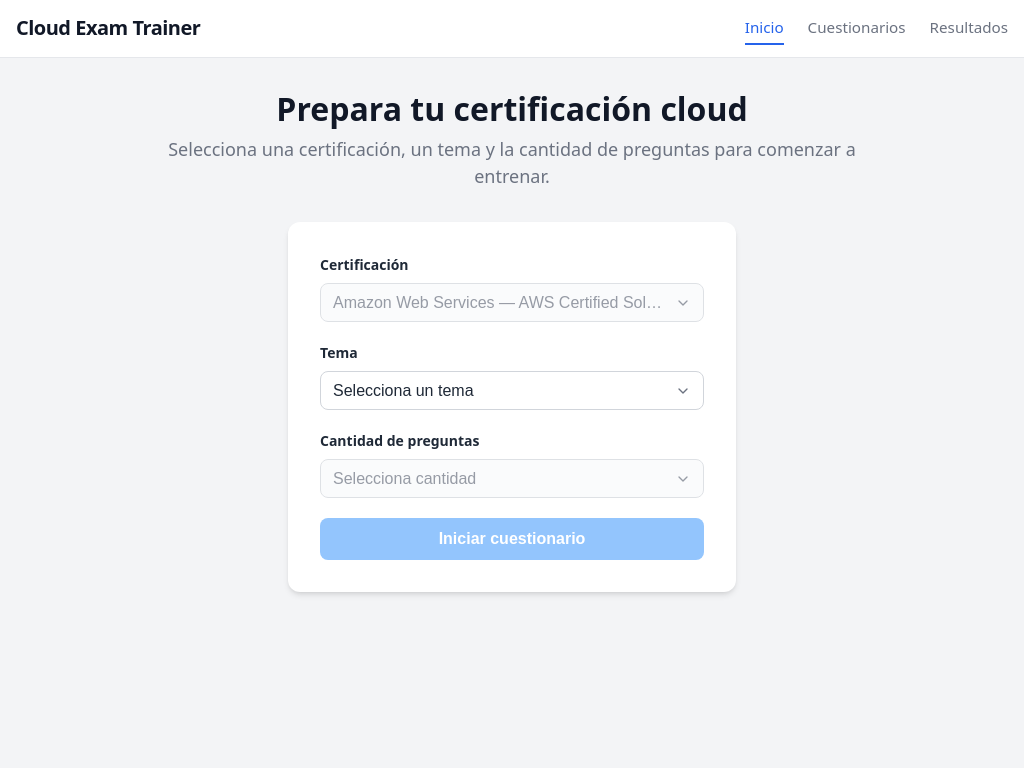
Test: Quiz setup › shows an error when no question count is selected
The image size is (1024, 768).
Select "Security" in the dropdown labelled "Tema" at point(512, 391), box [320,371,704,410]
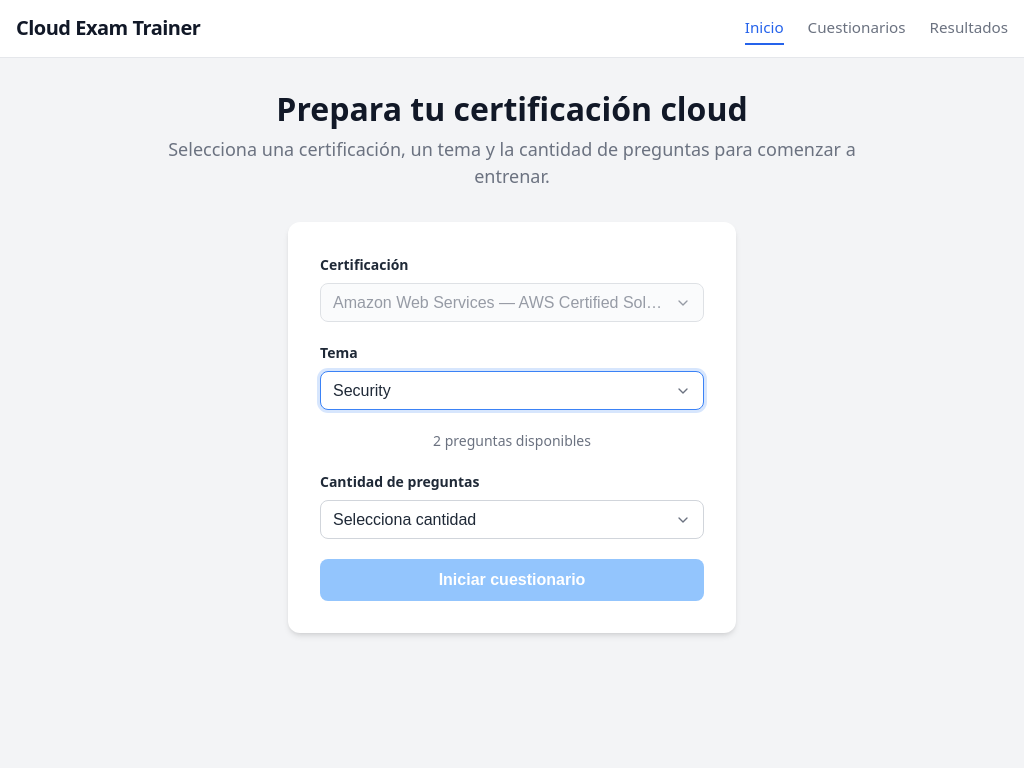
Submit the form named "Configurar cuestionario", box [288,222,736,633]
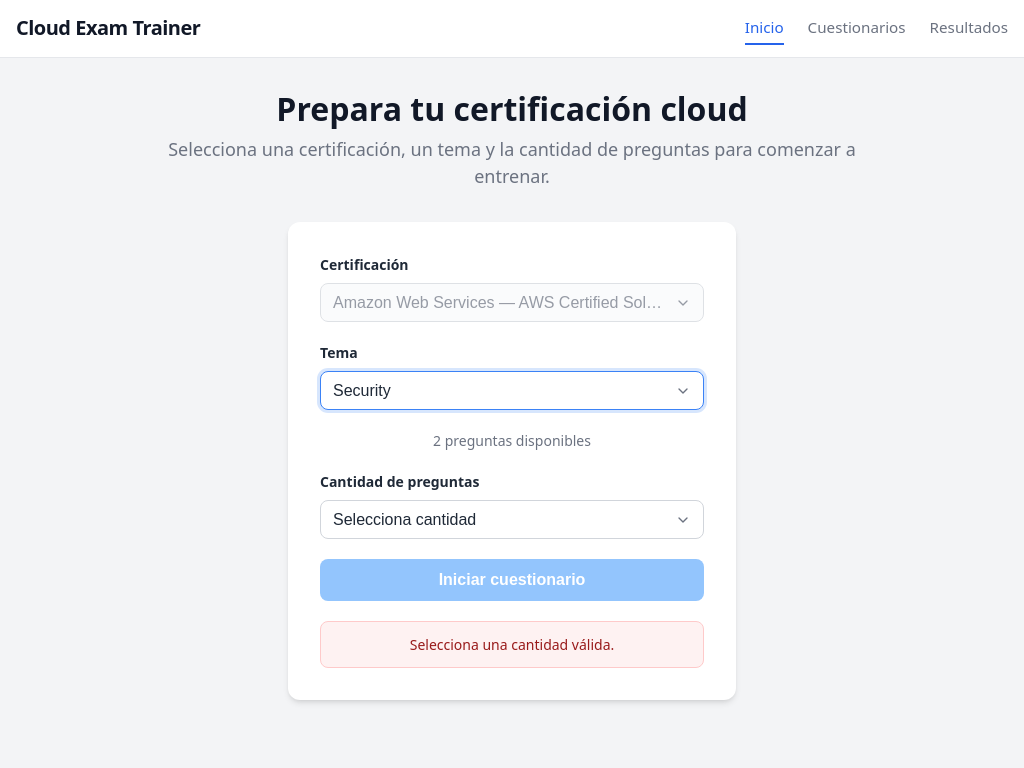
Now the message reads "Selecciona una cantidad válida.", box [410,635,614,654]
